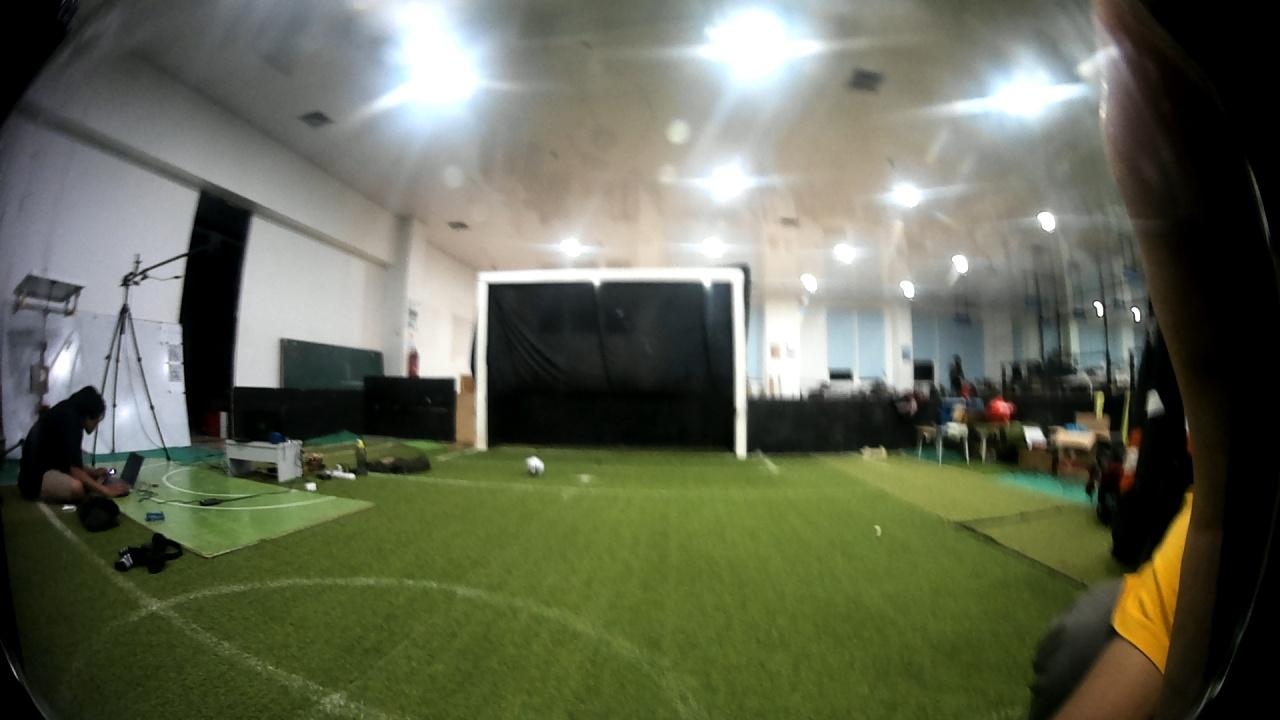ball: (526, 457, 545, 476)
